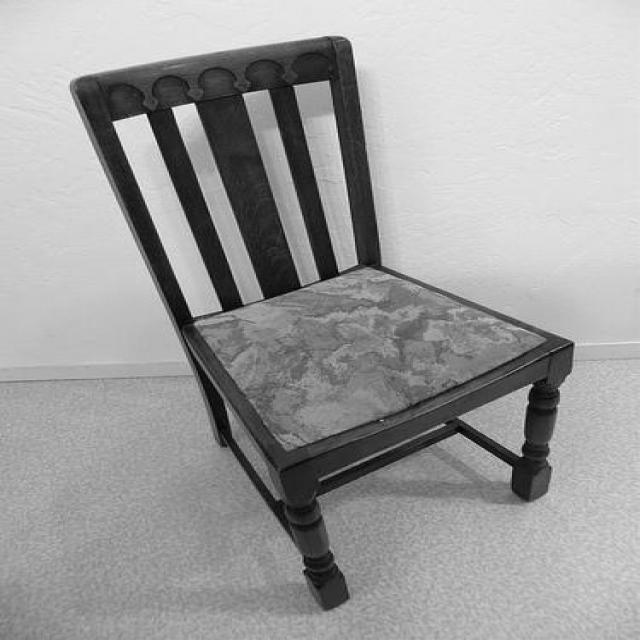chair: (65, 32, 576, 606)
